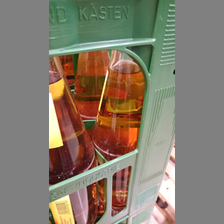juice: (49, 57, 101, 223), (95, 52, 146, 216)
